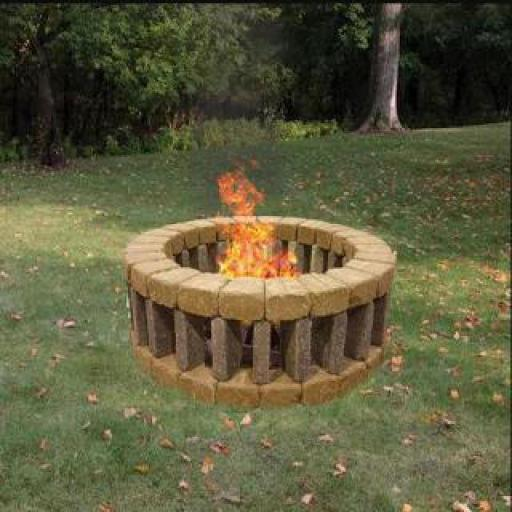smoke: (214, 184, 285, 274), (206, 125, 284, 182)
